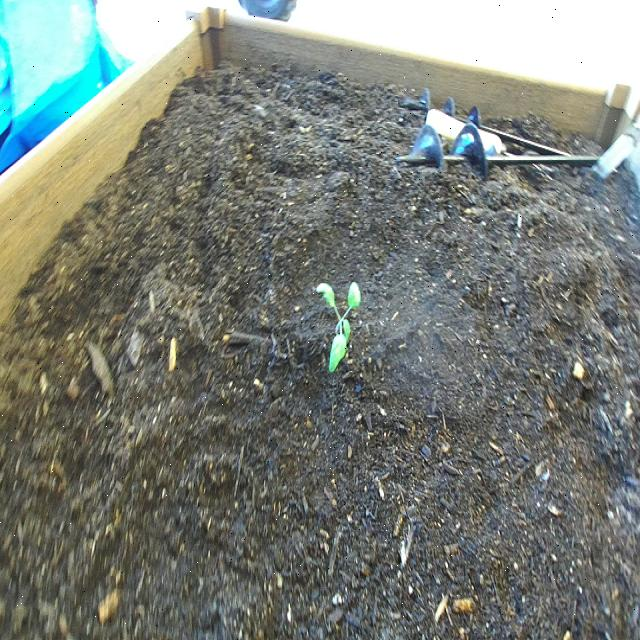Healthy: (318, 282, 362, 374)
